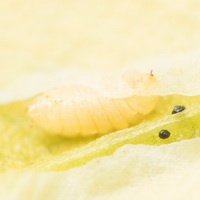insect: (172, 106, 184, 113)
